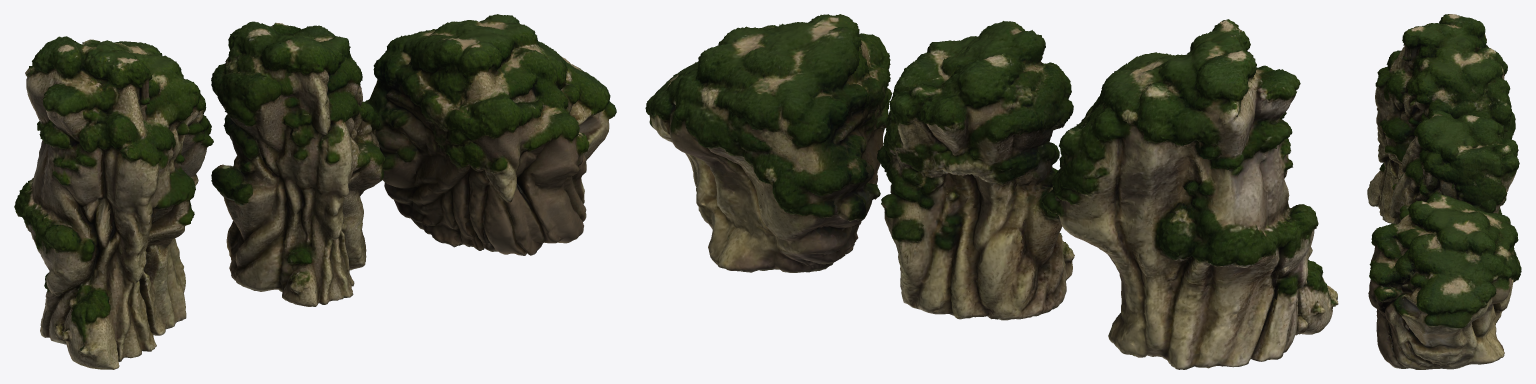
Rendered from Cliff_Formations.glb.
The picture shows the model from 3 angles, left to right: view 1: azimuth 30°, elevation 25°; view 2: azimuth 150°, elevation 25°; view 3: azimuth 270°, elevation 25°; orthographic projection. The views are drawn at different scales.
Visible parts, largest first — view 1: Cliff_Formations; view 2: Cliff_Formations; view 3: Cliff_Formations.
Part boxes in pixels (box(x1,y1,x2,y2)): Cliff_Formations: box(14, 14, 616, 369); Cliff_Formations: box(645, 14, 1338, 369); Cliff_Formations: box(1367, 14, 1521, 369).
Size of the model in its own units: 1.9 by 0.8644 by 0.6251.
Materials: 1 (1 with a texture image).
